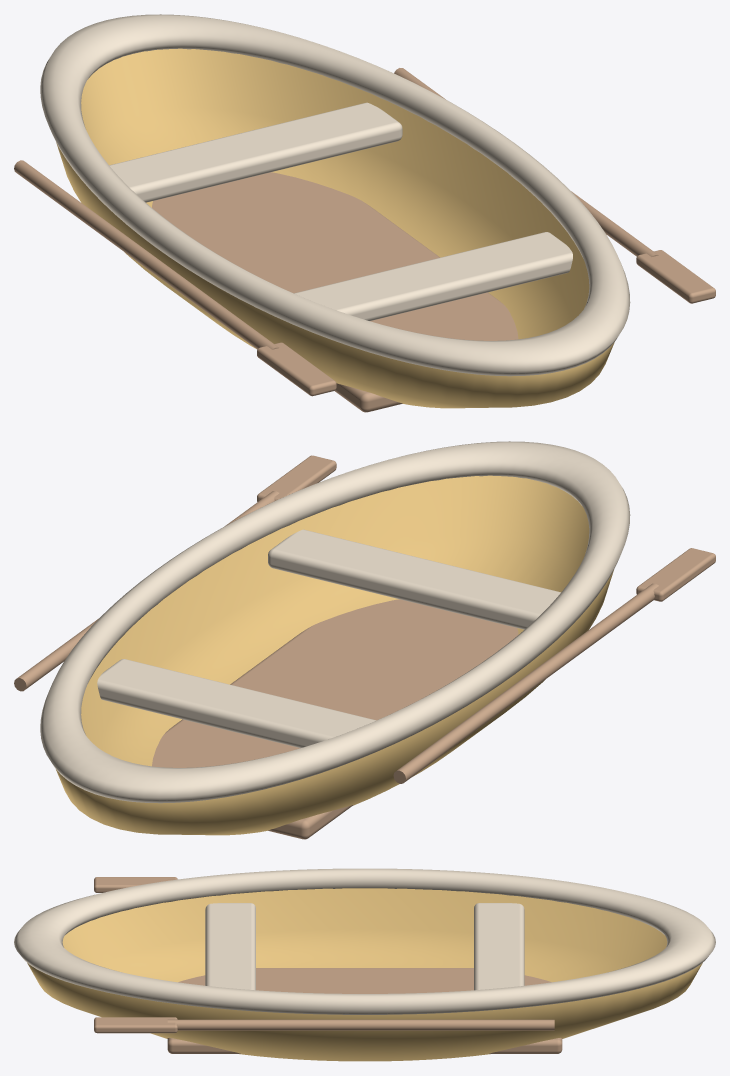
The model's file is boatYellow.glb.
3 views of the same model, one above another, from view 1: azimuth 30°, elevation 25°; view 2: azimuth 150°, elevation 25°; view 3: azimuth 270°, elevation 25° (orthographic). The views are drawn at different scales.
Parts seen in each view (by area): view 1: hollow hull, rounded rim, recessed cockpit floor, seat bench (×2), oar shaft (×2), oar blade (×2); view 2: hollow hull, rounded rim, recessed cockpit floor, seat bench (×2), oar shaft (×2), oar blade (×2); view 3: hollow hull, rounded rim, seat bench (×2), recessed cockpit floor, oar shaft, oar blade (×2).
Part boxes in pixels (<box>): hollow hull: <box>56,48,614,408</box>; rounded rim: <box>40,14,630,376</box>; recessed cockpit floor: <box>152,172,518,412</box>; seat bench (×2): <box>109,102,572,320</box>; oar shaft (×2): <box>14,68,658,349</box>; oar blade (×2): <box>257,250,715,396</box>; hollow hull: <box>56,475,613,835</box>; rounded rim: <box>40,441,630,803</box>; recessed cockpit floor: <box>152,599,518,839</box>; seat bench (×2): <box>97,529,560,747</box>; oar shaft (×2): <box>14,491,658,783</box>; oar blade (×2): <box>257,455,715,601</box>; hollow hull: <box>27,888,702,1061</box>; rounded rim: <box>14,868,715,1014</box>; seat bench (×2): <box>205,903,524,990</box>; recessed cockpit floor: <box>167,968,562,1053</box>; oar shaft: <box>167,1019,554,1030</box>; oar blade (×2): <box>94,877,177,1033</box>.
Size of the model in its own units: 2.25 by 0.7466 by 4.44.
